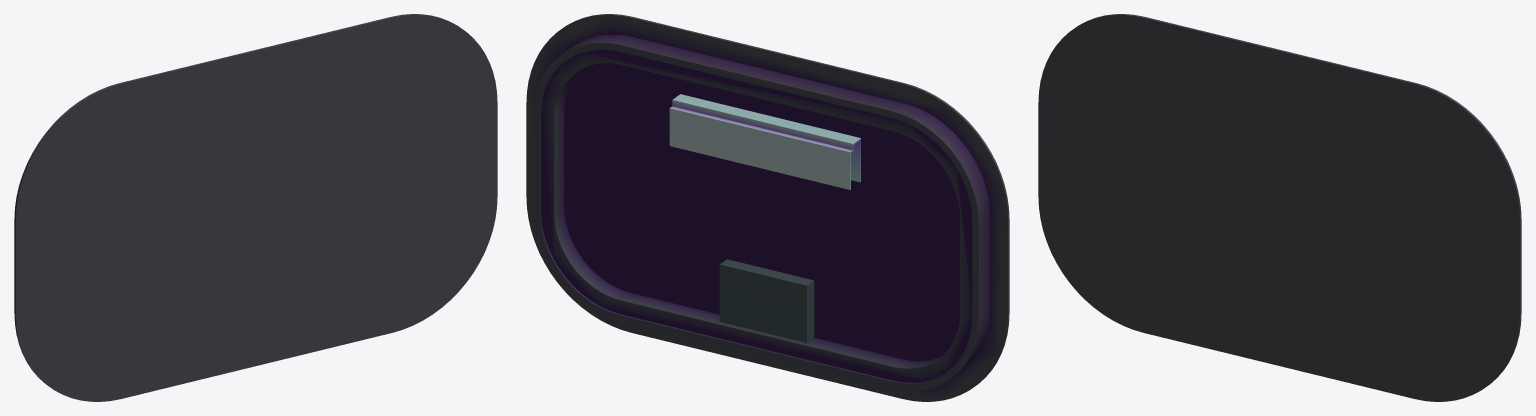
File: simready-mirror_bathroom_a01.glb
3 views of the same model, side by side, from view 1: azimuth 30°, elevation 25°; view 2: azimuth 150°, elevation 25°; view 3: azimuth 330°, elevation 25° (orthographic).
Parts seen in each view (by area): view 1: back; view 2: back, ledge, tab; view 3: back.
Boxes of the visible parts, x1,y1,x2,y2 form: back: (14, 14, 497, 401); back: (526, 14, 1009, 401); ledge: (669, 94, 860, 189); tab: (719, 259, 814, 342); back: (1038, 14, 1521, 401).
Bounding box in the file's own units: 0.8 × 0.5 × 0.0361.
